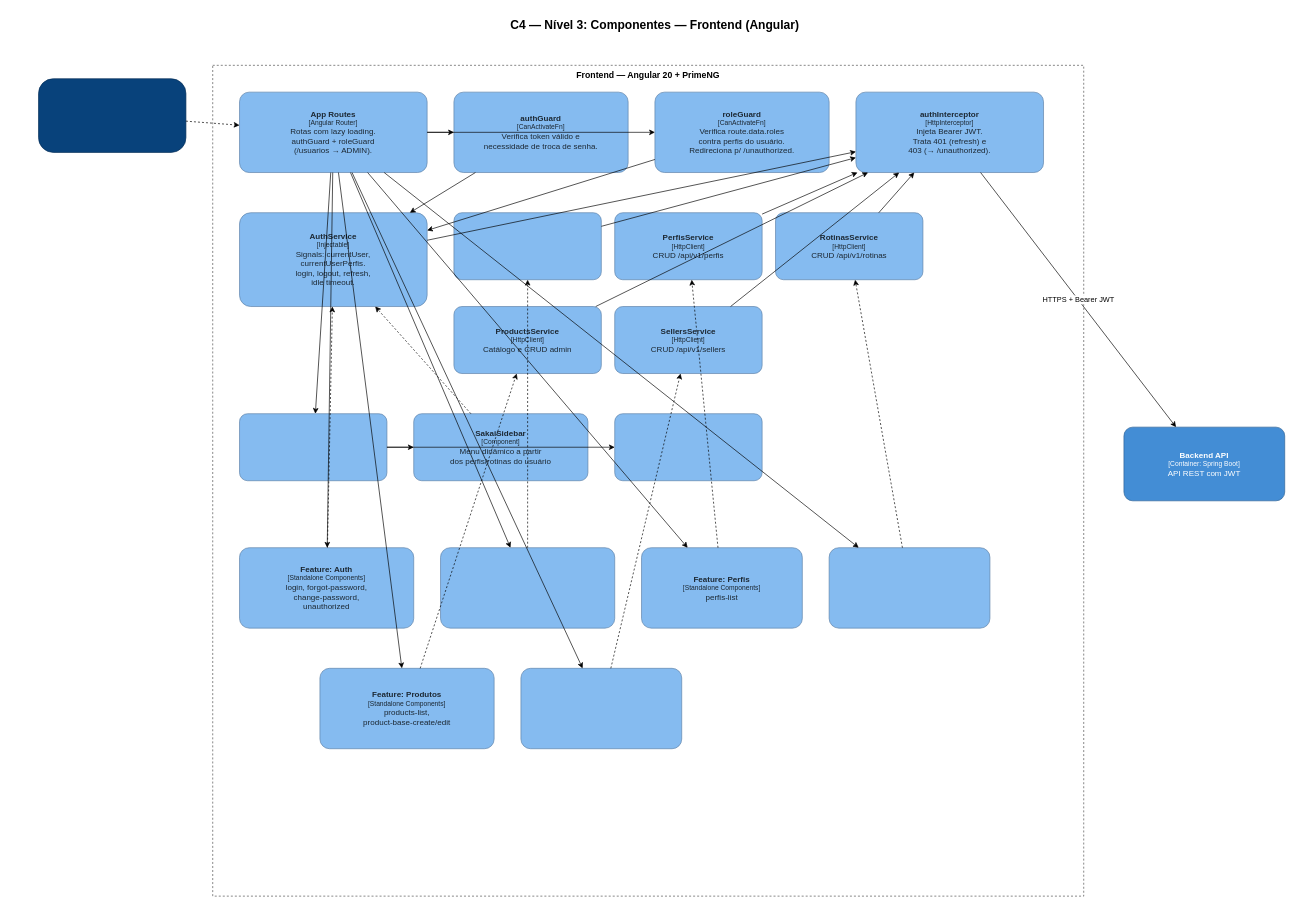
This 1309x908 diagram has some shape labels left out. Each missing label, with the centre of its shape:
"Feature: Rotinas [Standalone Components] rotinas-list" belongs at [909,587].
"Feature: Sellers [Standalone Components] sellers-list" belongs at [601,708].
"Feature: Usuários [Standalone Components] users-list (CRUD). Restrito a ADMIN." belongs at [527,587].
"MainLayout [Component] Casca autenticada" belongs at [313,447].
"SakaiTopbar [Component] Cabeçalho + avatar" belongs at [688,447].
"UsersService [HttpClient] CRUD /api/v1/users" belongs at [527,246].
"Usuário [Person] ADMIN / MANAGER / SELLER / OPERATOR" belongs at [112,115].
